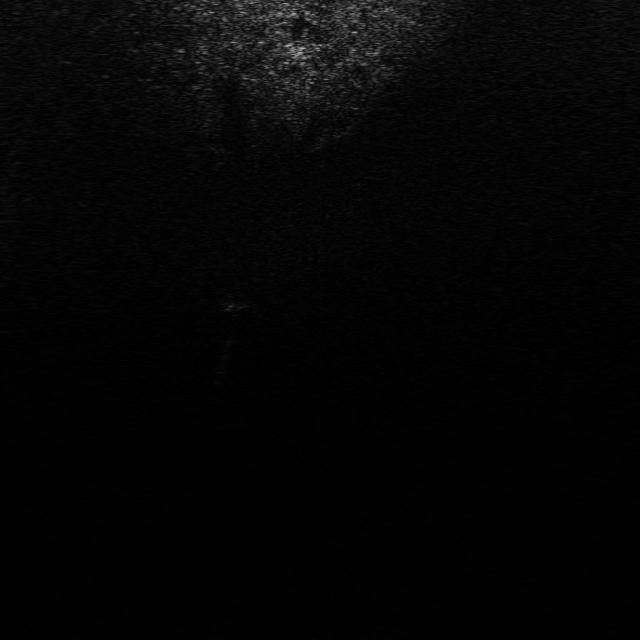cube: (213, 290, 253, 316)
